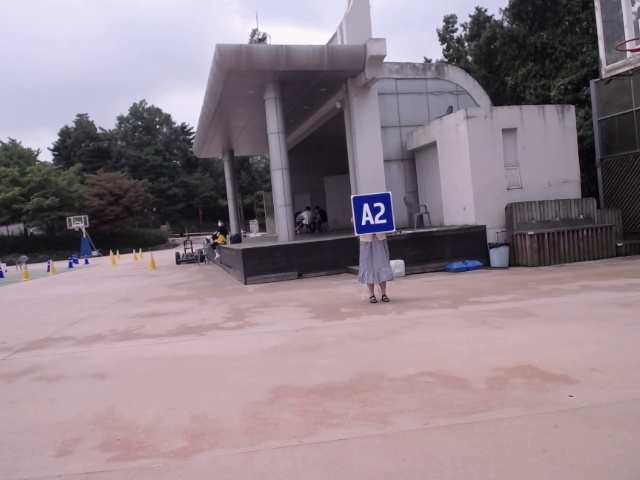delivery_a2: (352, 191, 395, 235)
